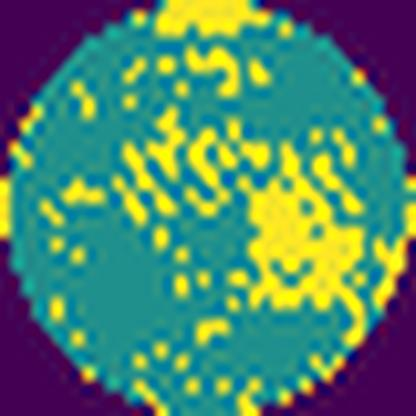Edge-Loc: (236, 139, 365, 343), (151, 107, 229, 216), (161, 0, 249, 37)
